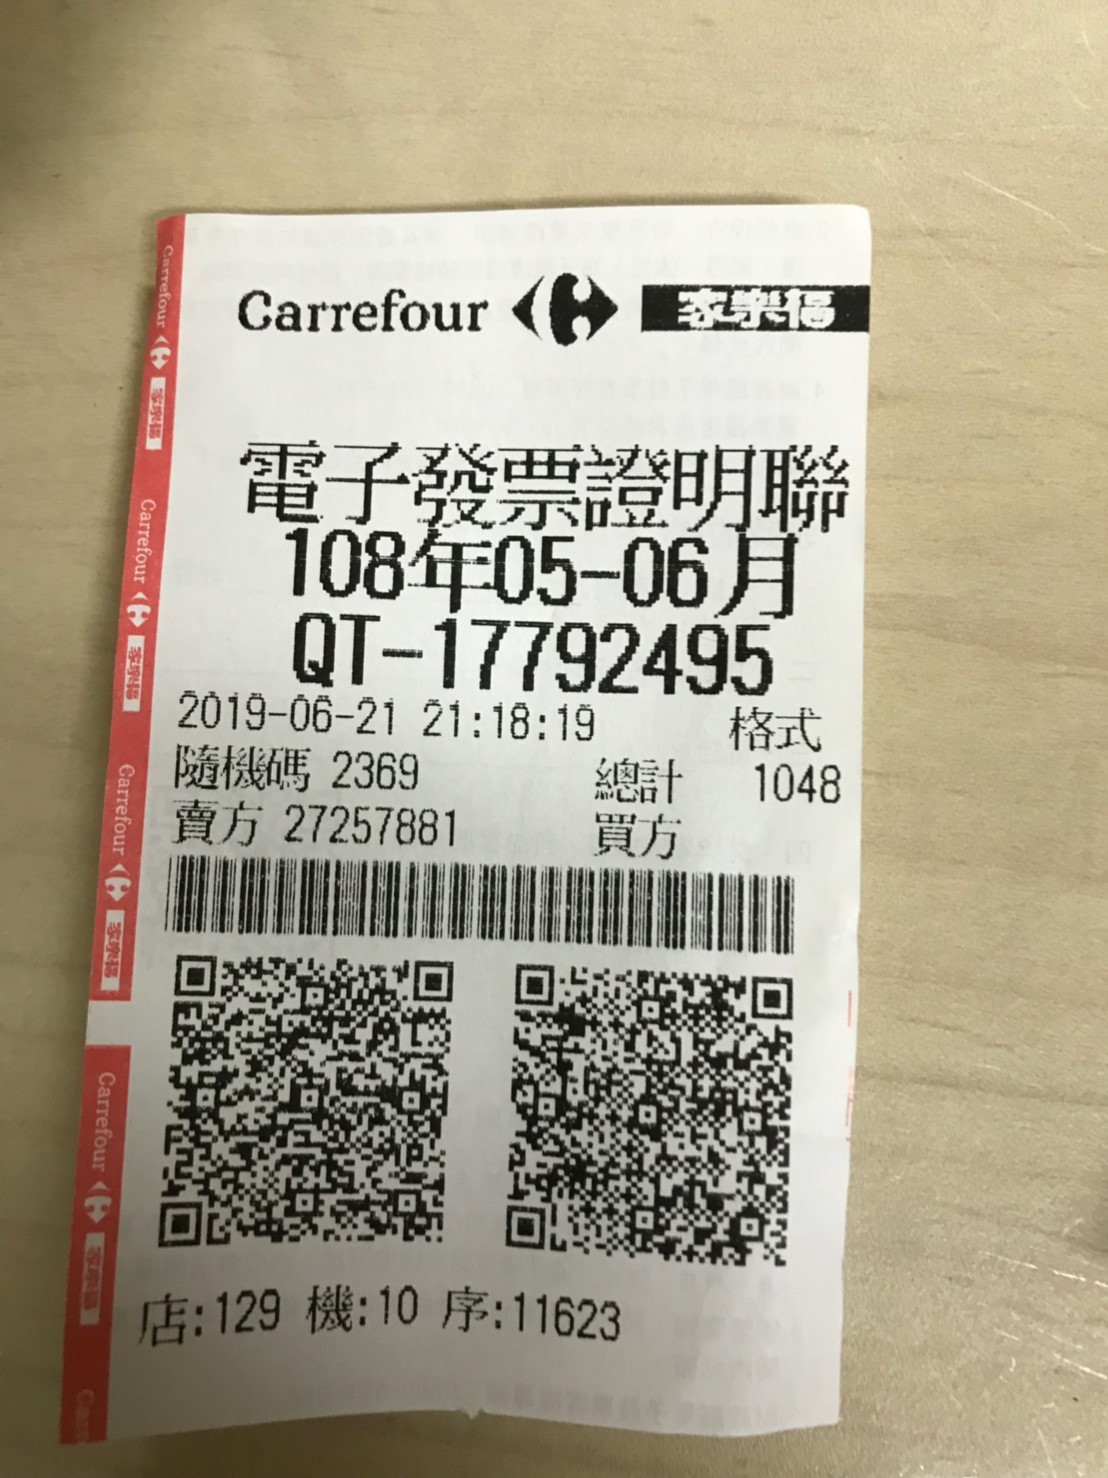Date_New: (283, 527, 800, 620)
Number_New: (434, 614, 777, 701)
